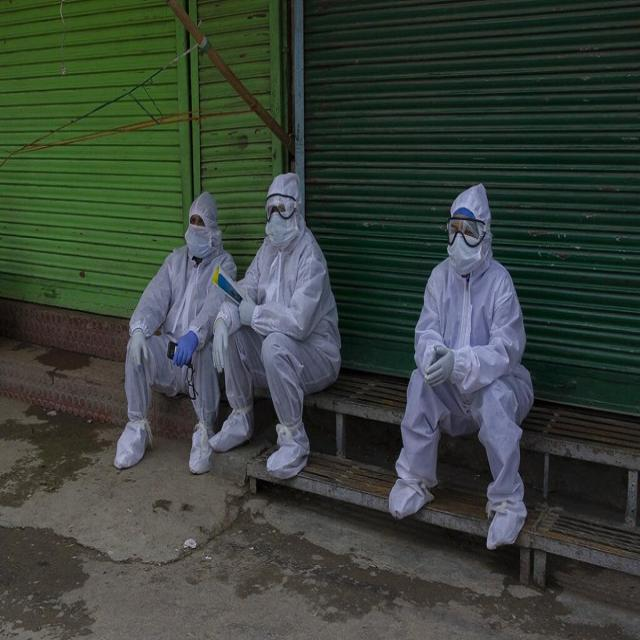Coverall: (381, 157, 528, 581), (109, 136, 245, 494), (215, 124, 328, 490)
Gloves: (419, 343, 464, 405), (168, 314, 201, 391), (217, 302, 242, 393), (125, 314, 156, 381), (237, 300, 277, 345)
Goggles: (442, 201, 491, 255), (263, 183, 309, 228)
Mask: (176, 213, 233, 268), (443, 226, 491, 280), (257, 205, 306, 250)
